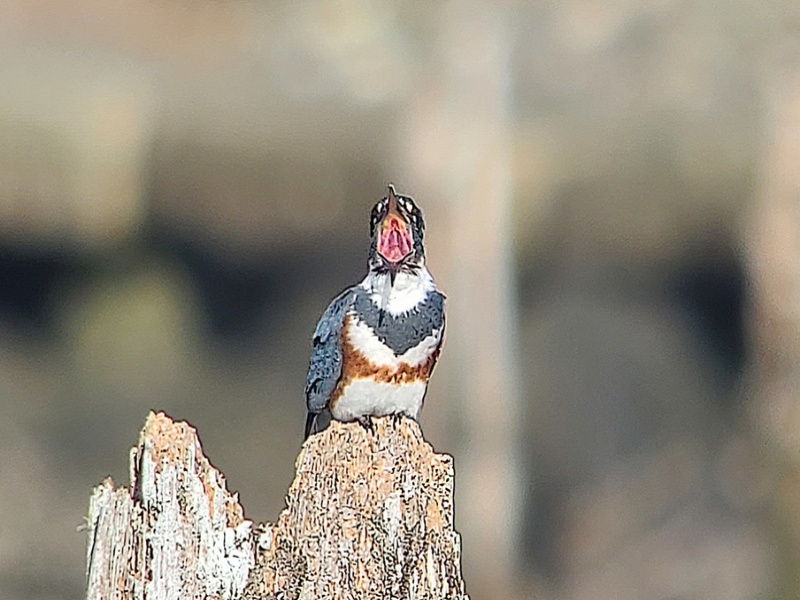kingfisher: (290, 181, 446, 443)
